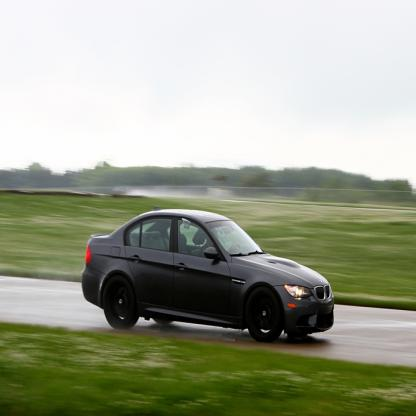Car: (81, 211, 339, 347)
